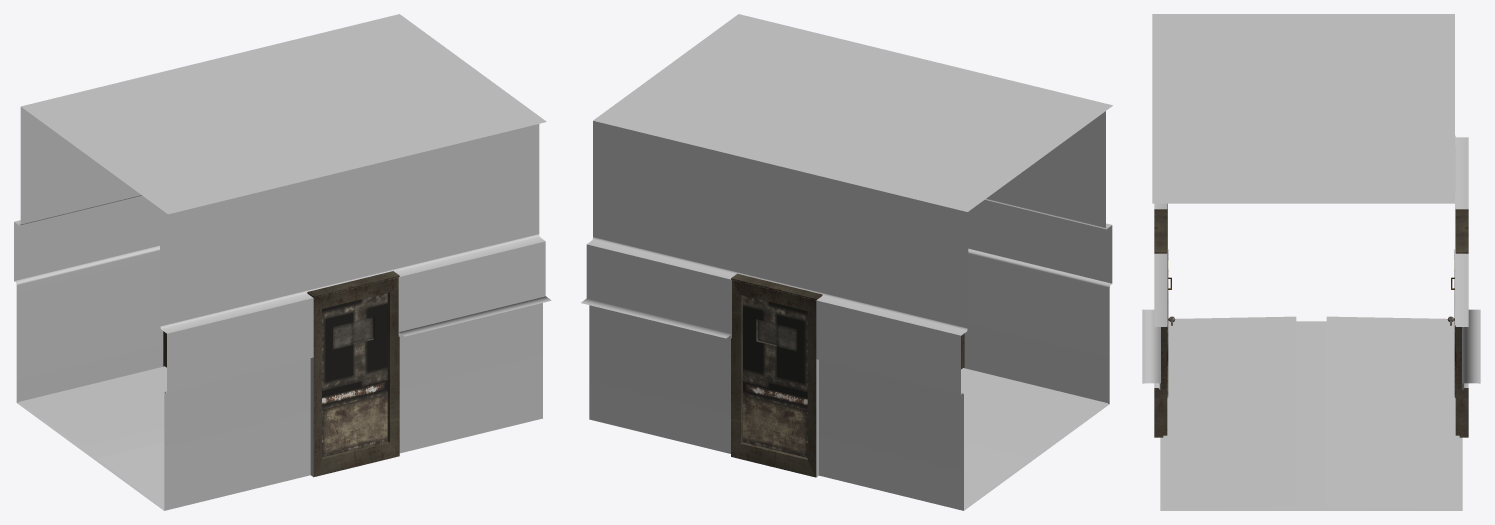
Rendered from CorridorA.fbx.
3 views of the same model, side by side, from view 1: azimuth 30°, elevation 25°; view 2: azimuth 150°, elevation 25°; view 3: azimuth 270°, elevation 25° (orthographic). The views are drawn at different scales.
Parts seen in each view (by area): view 1: polySurface1266, polySurface1253, polySurface1256, polySurface1267, polySurface1251, polySurface1255, polySurface1269, polySurface1263, polySurface1254, polySurface1264; view 2: polySurface1256, polySurface1253, polySurface1266, polySurface1257, polySurface1252, polySurface1263, polySurface1259, polySurface1255, polySurface1254, polySurface1274; view 3: polySurface1253, polySurface1255, polySurface1263, polySurface1254, polySurface1256, polySurface1259, polySurface1269, polySurface1264, polySurface1274, polySurface1266.
Part boxes in pixels (bbox=[...]): polySurface1266: bbox=[160, 124, 545, 510]; polySurface1253: bbox=[21, 14, 546, 214]; polySurface1256: bbox=[14, 107, 163, 402]; polySurface1267: bbox=[322, 293, 387, 457]; polySurface1251: bbox=[21, 107, 141, 224]; polySurface1255: bbox=[18, 366, 166, 446]; polySurface1269: bbox=[307, 271, 399, 476]; polySurface1263: bbox=[98, 442, 164, 507]; polySurface1254: bbox=[17, 402, 541, 510]; polySurface1264: bbox=[399, 296, 551, 336]; polySurface1256: bbox=[586, 121, 967, 510]; polySurface1253: bbox=[593, 14, 1112, 211]; polySurface1266: bbox=[964, 111, 1112, 403]; polySurface1257: bbox=[743, 295, 807, 457]; polySurface1252: bbox=[986, 111, 1105, 227]; polySurface1263: bbox=[961, 368, 1107, 447]; polySurface1259: bbox=[731, 273, 822, 477]; polySurface1255: bbox=[964, 442, 1029, 507]; polySurface1254: bbox=[593, 403, 1109, 510]; polySurface1274: bbox=[581, 298, 731, 338]; polySurface1253: bbox=[1152, 14, 1454, 203]; polySurface1255: bbox=[1326, 316, 1459, 508]; polySurface1263: bbox=[1163, 316, 1296, 508]; polySurface1254: bbox=[1160, 321, 1462, 510]; polySurface1256: bbox=[1455, 135, 1468, 389]; polySurface1259: bbox=[1455, 209, 1468, 437]; polySurface1269: bbox=[1154, 209, 1167, 437]; polySurface1264: bbox=[1142, 309, 1160, 383]; polySurface1274: bbox=[1462, 309, 1480, 383]; polySurface1266: bbox=[1154, 203, 1167, 389].
Bounding box in the file's own units: 30.44 × 22.97 × 22.93.
